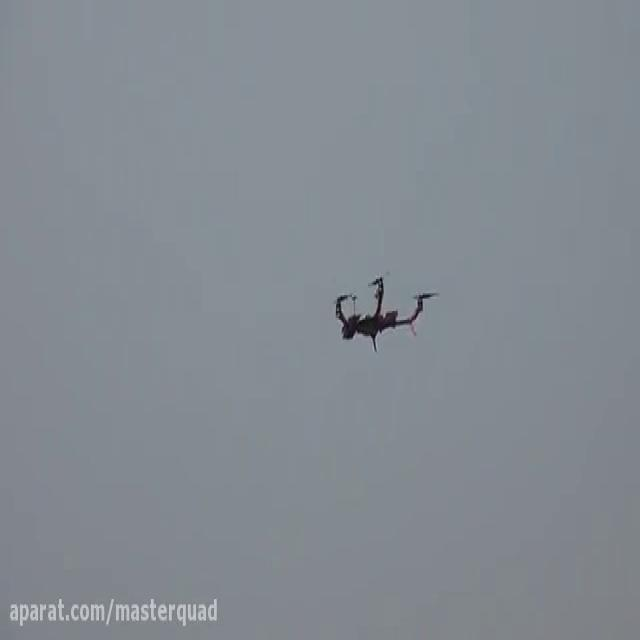drone: (327, 263, 441, 356)
